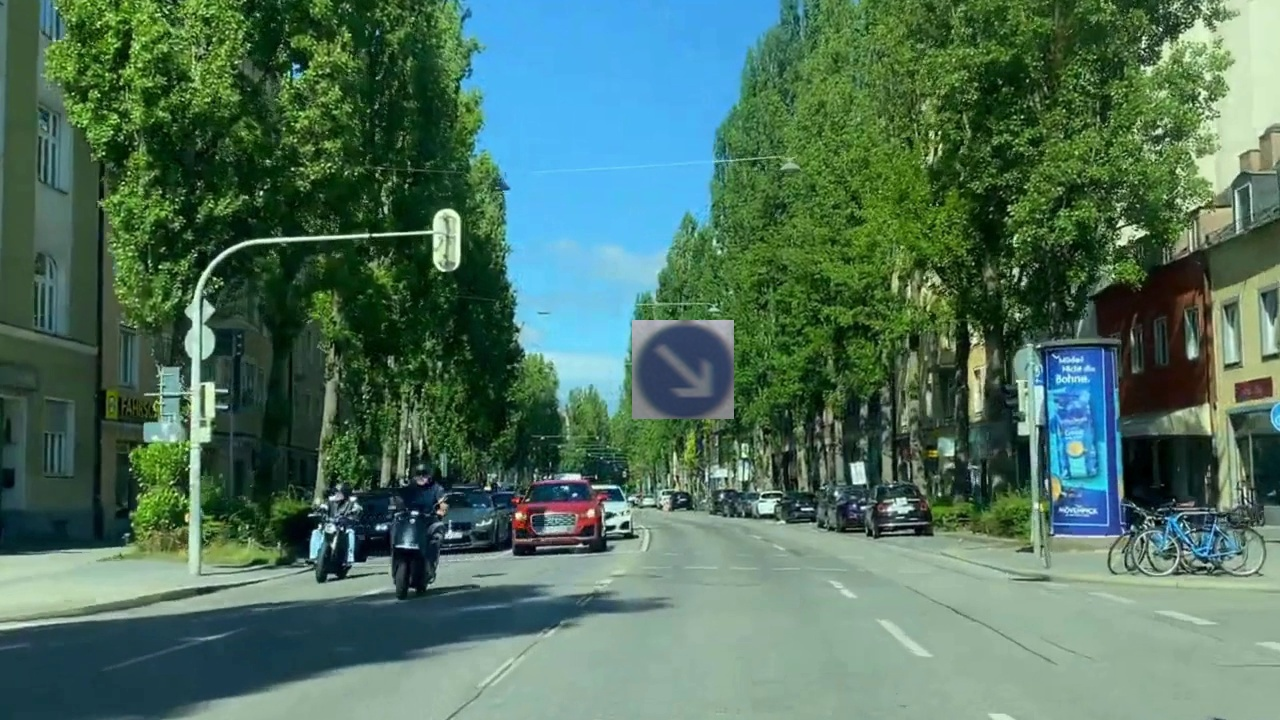Keep right: (632, 320, 734, 419)
